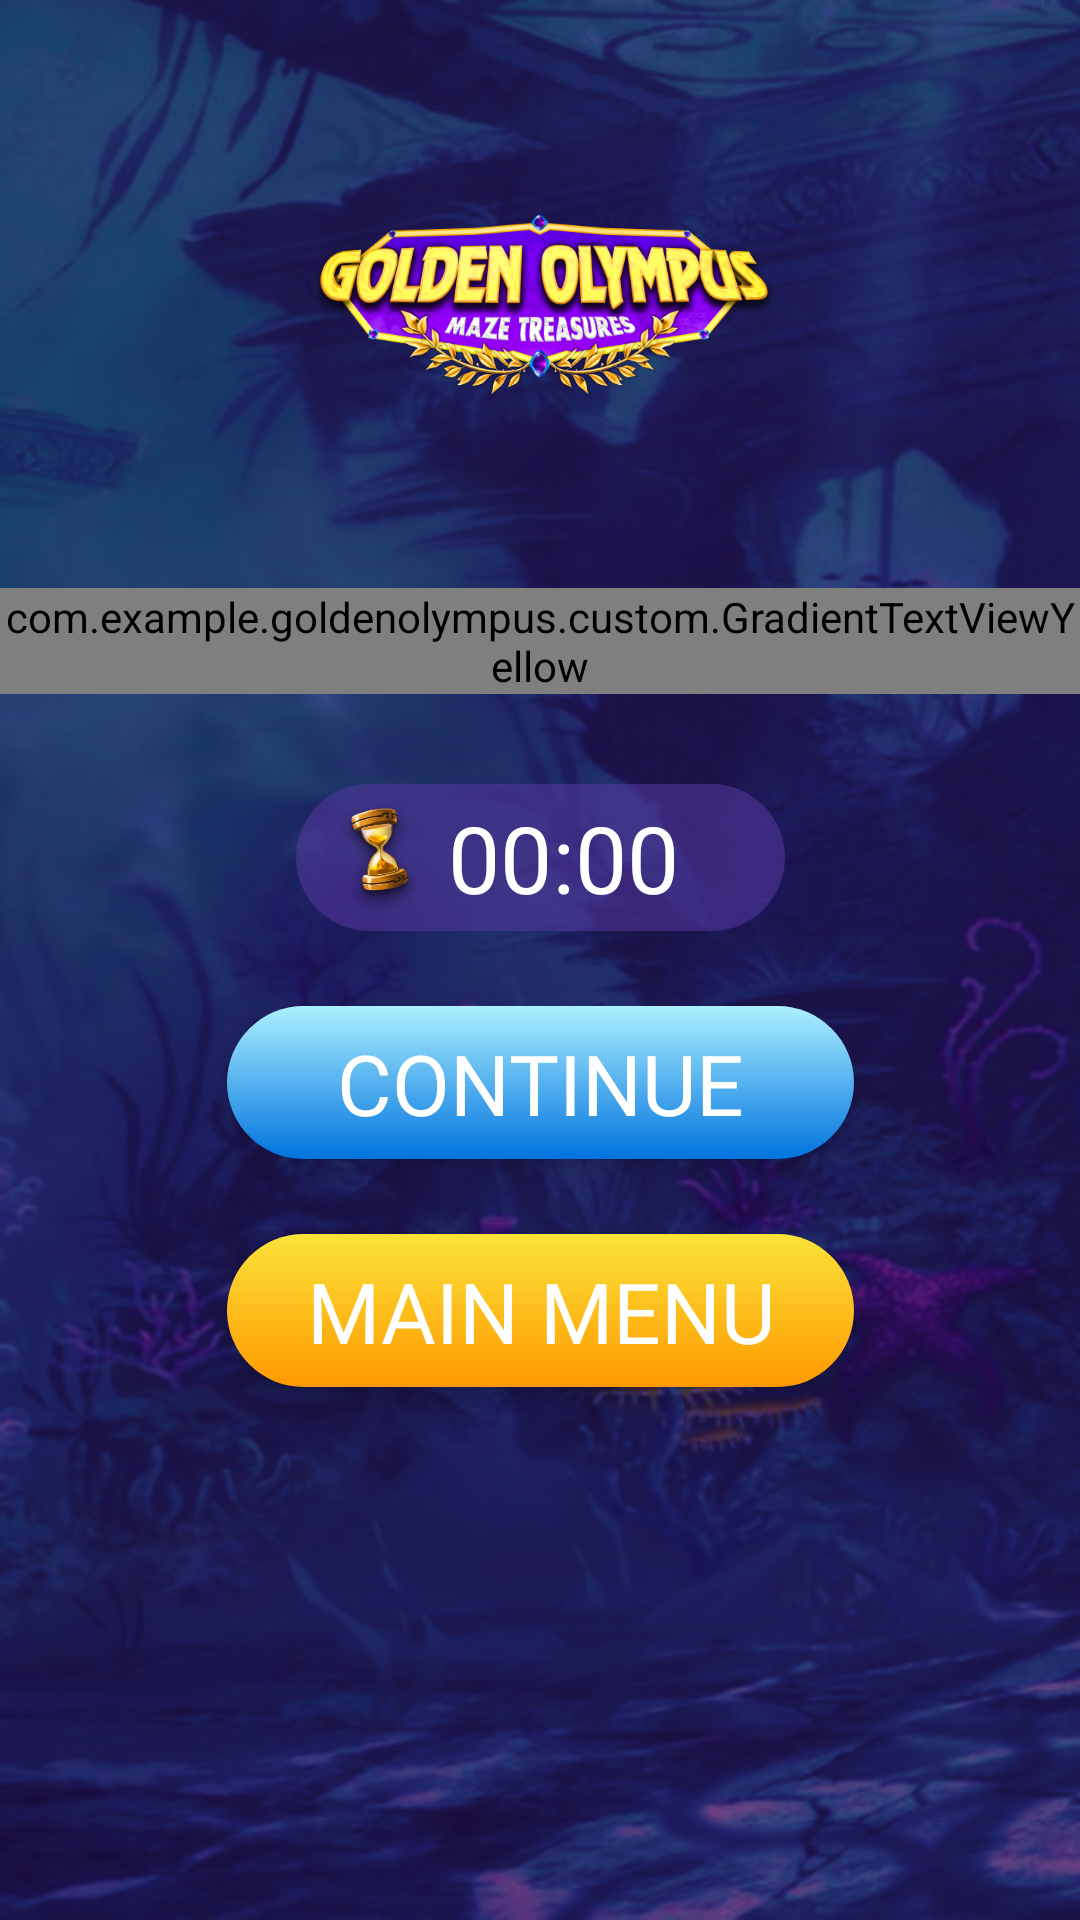

Where icons sit on this 1080w x 1920h app screen, as (x1, y1, x2, y2):
time: (350, 808, 410, 903)
